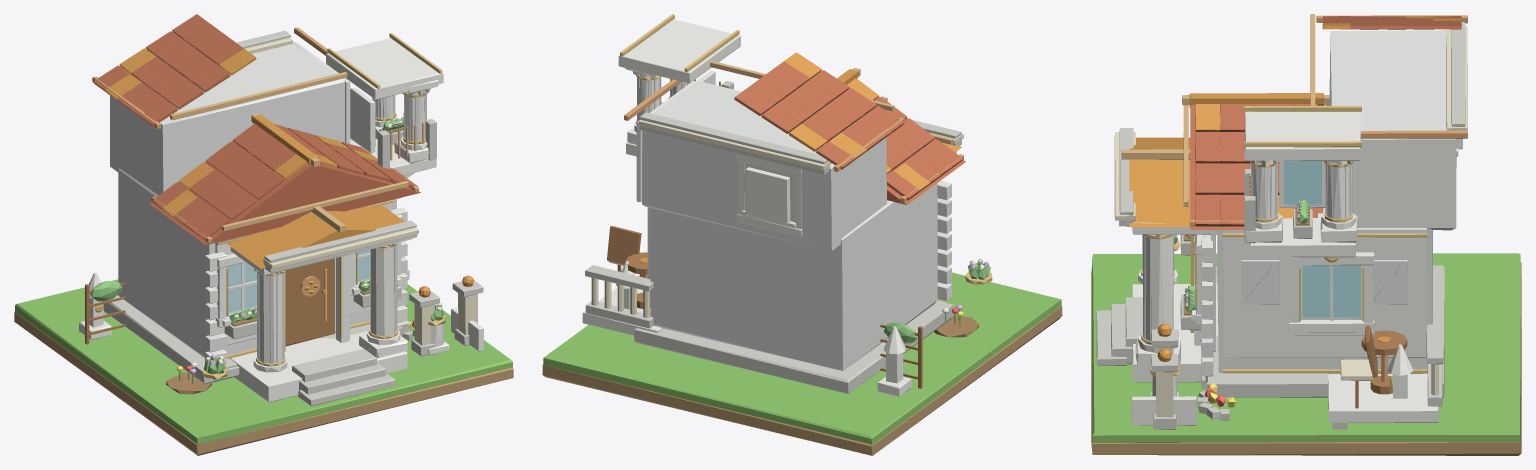
File: villa_l03_active_LOD1.glb
The picture shows the model from 3 angles, left to right: view 1: azimuth 30°, elevation 25°; view 2: azimuth 150°, elevation 25°; view 3: azimuth 270°, elevation 25°; orthographic projection. The views are drawn at different scales.
Parts seen in each view (by area): view 1: villa_grass_tile_villa_l03_active_LOD1_tmp, villa_l03_active_rear_upper_shell_villa_l03_active_LOD1_tmp, villa_l01_active_v2_marble_core_villa_l03_active_LOD1_tmp, villa_l03_active_front_slope_gable_roof_villa_l03_active_LOD, villa_earth_tile_villa_l03_active_LOD1_tmp, villa_l03_active_wide_portico_roof_gable_roof_villa_l03_acti, villa_l03_active_balcony_flat_roof_villa_l03_active_LOD1_tmp, villa_l03_active_wide_porch_villa_l03_active_LOD1_tmp, villa_l01_active_v2_entry_door_villa_l03_active_LOD1_tmp, villa_l01_active_v2_base_stone_block_low_medium_foundation_v, villa_l03_active_wide_column_1_shaft_villa_l03_active_LOD1_t, villa_l03_active_wide_column_-1_shaft_villa_l03_active_LOD1_ (+27 smaller); view 2: villa_l01_active_v2_marble_core_villa_l03_active_LOD1_tmp, villa_grass_tile_villa_l03_active_LOD1_tmp, villa_l03_active_rear_upper_shell_villa_l03_active_LOD1_tmp, villa_l01_active_v2_base_stone_block_low_medium_foundation_v, villa_earth_tile_villa_l03_active_LOD1_tmp, villa_l03_active_balcony_flat_roof_villa_l03_active_LOD1_tmp, villa_l03_active_rear_upper_window_window_frame_villa_l03_ac, villa_l03_active_rear_upper_cornice_course_2_villa_l03_activ, villa_l03_active_rear_upper_cornice_course_1_villa_l03_activ, villa_l03_active_chair_back_villa_l03_active_LOD1_tmp, villa_l03_active_terrace_deck_villa_l03_active_LOD1_tmp, villa_l03_active_rear_upper_cornice_course_0_villa_l03_activ (+13 smaller); view 3: villa_grass_tile_villa_l03_active_LOD1_tmp, villa_l01_active_v2_right_marble_cladding_villa_l03_active_L, villa_l03_active_rear_upper_shell_villa_l03_active_LOD1_tmp, villa_l03_active_rear_upper_right_cladding_villa_l03_active_, villa_earth_tile_villa_l03_active_LOD1_tmp, villa_l03_active_balcony_flat_roof_villa_l03_active_LOD1_tmp, villa_l03_active_wide_portico_roof_gable_roof_villa_l03_acti, villa_l03_active_terrace_deck_villa_l03_active_LOD1_tmp, villa_l01_active_v2_base_stone_block_low_medium_foundation_v, villa_l01_active_v2_marble_core_villa_l03_active_LOD1_tmp, villa_l01_active_v2_side_window_glass_villa_l03_active_LOD1_, villa_l03_active_wide_column_1_shaft_villa_l03_active_LOD1_t (+50 smaller).
Part boxes in pixels (<box>): villa_grass_tile_villa_l03_active_LOD1_tmp: <box>15,279,512,444</box>; villa_l03_active_rear_upper_shell_villa_l03_active_LOD1_tmp: <box>110,43,344,195</box>; villa_l01_active_v2_marble_core_villa_l03_active_LOD1_tmp: <box>118,168,393,358</box>; villa_l03_active_front_slope_gable_roof_villa_l03_active_LOD: <box>149,141,420,245</box>; villa_earth_tile_villa_l03_active_LOD1_tmp: <box>14,312,513,455</box>; villa_l03_active_wide_portico_roof_gable_roof_villa_l03_acti: <box>227,205,404,268</box>; villa_l03_active_balcony_flat_roof_villa_l03_active_LOD1_tmp: <box>326,38,443,99</box>; villa_l03_active_wide_porch_villa_l03_active_LOD1_tmp: <box>230,331,407,402</box>; villa_l01_active_v2_entry_door_villa_l03_active_LOD1_tmp: <box>285,258,334,346</box>; villa_l01_active_v2_base_stone_block_low_medium_foundation_v: <box>103,295,409,384</box>; villa_l03_active_wide_column_1_shaft_villa_l03_active_LOD1_t: <box>370,245,396,335</box>; villa_l03_active_wide_column_-1_shaft_villa_l03_active_LOD1_: <box>257,272,283,363</box>; villa_l01_active_v2_marble_core_villa_l03_active_LOD1_tmp: <box>650,183,937,370</box>; villa_grass_tile_villa_l03_active_LOD1_tmp: <box>543,272,1061,444</box>; villa_l03_active_rear_upper_shell_villa_l03_active_LOD1_tmp: <box>642,80,886,251</box>; villa_l01_active_v2_base_stone_block_low_medium_foundation_v: <box>634,301,953,393</box>; villa_earth_tile_villa_l03_active_LOD1_tmp: <box>542,306,1062,455</box>; villa_l03_active_balcony_flat_roof_villa_l03_active_LOD1_tmp: <box>618,19,740,83</box>; villa_l03_active_rear_upper_window_window_frame_villa_l03_ac: <box>745,167,790,224</box>; villa_l03_active_rear_upper_cornice_course_2_villa_l03_activ: <box>639,112,828,164</box>; villa_l03_active_rear_upper_cornice_course_1_villa_l03_activ: <box>638,120,831,170</box>; villa_l03_active_chair_back_villa_l03_active_LOD1_tmp: <box>607,226,641,264</box>; villa_l03_active_terrace_deck_villa_l03_active_LOD1_tmp: <box>582,287,662,335</box>; villa_l03_active_rear_upper_cornice_course_0_villa_l03_activ: <box>639,126,829,174</box>; villa_grass_tile_villa_l03_active_LOD1_tmp: <box>1092,253,1520,442</box>; villa_l01_active_v2_right_marble_cladding_villa_l03_active_L: <box>1223,228,1427,357</box>; villa_l03_active_rear_upper_shell_villa_l03_active_LOD1_tmp: <box>1329,30,1453,230</box>; villa_l03_active_rear_upper_right_cladding_villa_l03_active_: <box>1352,138,1456,228</box>; villa_earth_tile_villa_l03_active_LOD1_tmp: <box>1091,262,1521,455</box>; villa_l03_active_balcony_flat_roof_villa_l03_active_LOD1_tmp: <box>1245,111,1360,160</box>; villa_l03_active_wide_portico_roof_gable_roof_villa_l03_acti: <box>1129,137,1190,227</box>; villa_l03_active_terrace_deck_villa_l03_active_LOD1_tmp: <box>1328,373,1438,422</box>; villa_l01_active_v2_base_stone_block_low_medium_foundation_v: <box>1205,265,1444,397</box>; villa_l01_active_v2_marble_core_villa_l03_active_LOD1_tmp: <box>1217,208,1432,373</box>; villa_l01_active_v2_side_window_glass_villa_l03_active_LOD1_: <box>1302,265,1360,318</box>; villa_l03_active_wide_column_1_shaft_villa_l03_active_LOD1_t: <box>1142,234,1173,341</box>.
Size of what is drawn, in the model's own units: 3.57 by 3.12 by 3.58.
